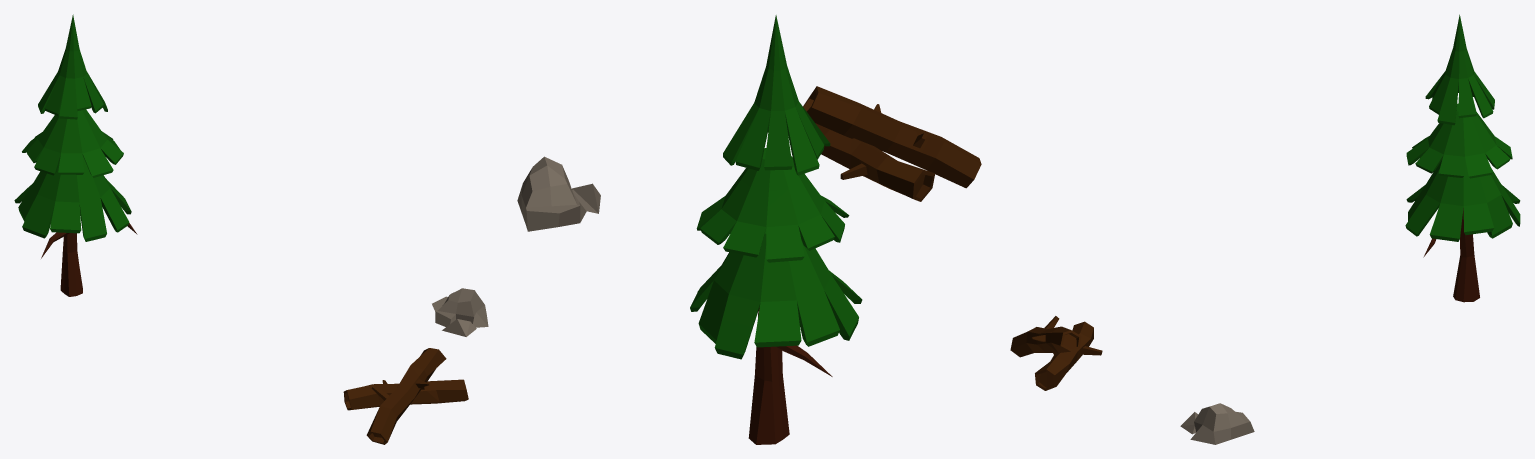
The model's file is Assets.FBX.
The picture shows the model from 3 angles, left to right: view 1: azimuth 30°, elevation 25°; view 2: azimuth 150°, elevation 25°; view 3: azimuth 270°, elevation 25°; orthographic projection. The views are drawn at different scales.
Visible parts, largest first — view 1: Tree_Fir, Rocks_and_grass_003, Rocks_and_grass_2, Stone_9; view 2: Tree_Fir, Rocks_and_grass_003, Stone_9, Rocks_and_grass_2; view 3: Tree_Fir, Stone_9, Rocks_and_grass_003, Rocks_and_grass_2.
Boxes of the visible parts, <box> form: Tree_Fir: <box>14,14,137,296</box>; Rocks_and_grass_003: <box>366,348,446,444</box>; Rocks_and_grass_2: <box>343,379,468,410</box>; Stone_9: <box>432,288,488,336</box>; Tree_Fir: <box>690,15,862,444</box>; Rocks_and_grass_003: <box>803,86,981,188</box>; Stone_9: <box>517,156,600,231</box>; Rocks_and_grass_2: <box>815,123,935,201</box>; Tree_Fir: <box>1405,14,1520,302</box>; Stone_9: <box>1180,403,1254,444</box>; Rocks_and_grass_003: <box>1010,316,1081,357</box>; Rocks_and_grass_2: <box>1035,321,1102,390</box>.
Size of the model in its own units: 870 by 714 by 1111.
